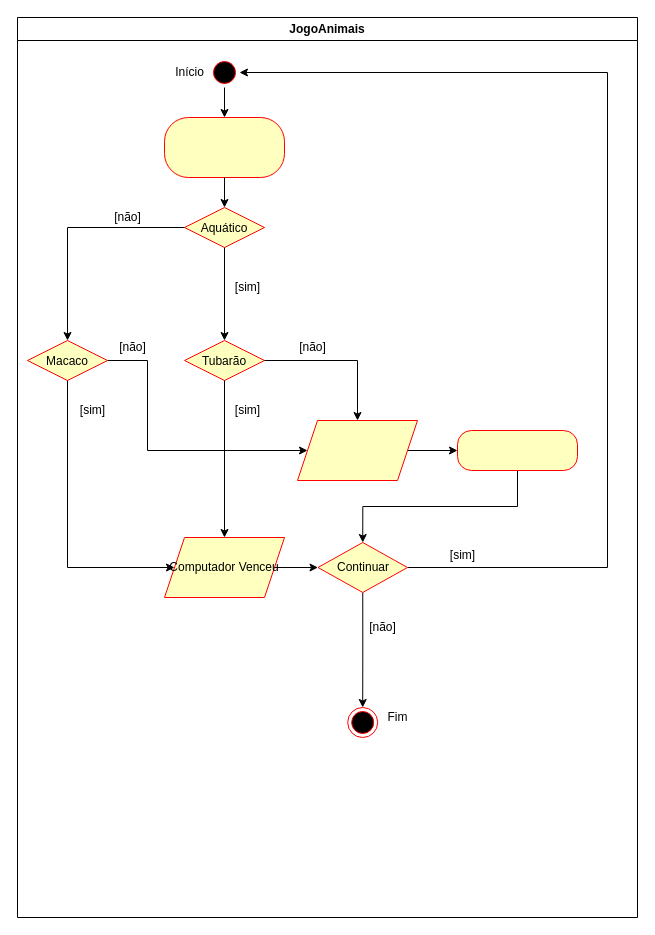
Image size: 655x935. Some labels were removed from this diagram. Here are the shapes that lost their labels. From the top down, the centre of each, then its label:
At pixel 224 147: "Pense em um animal".
At pixel 357 450: "Você Venceu".
At pixel 517 450: "Especifique o animal".
